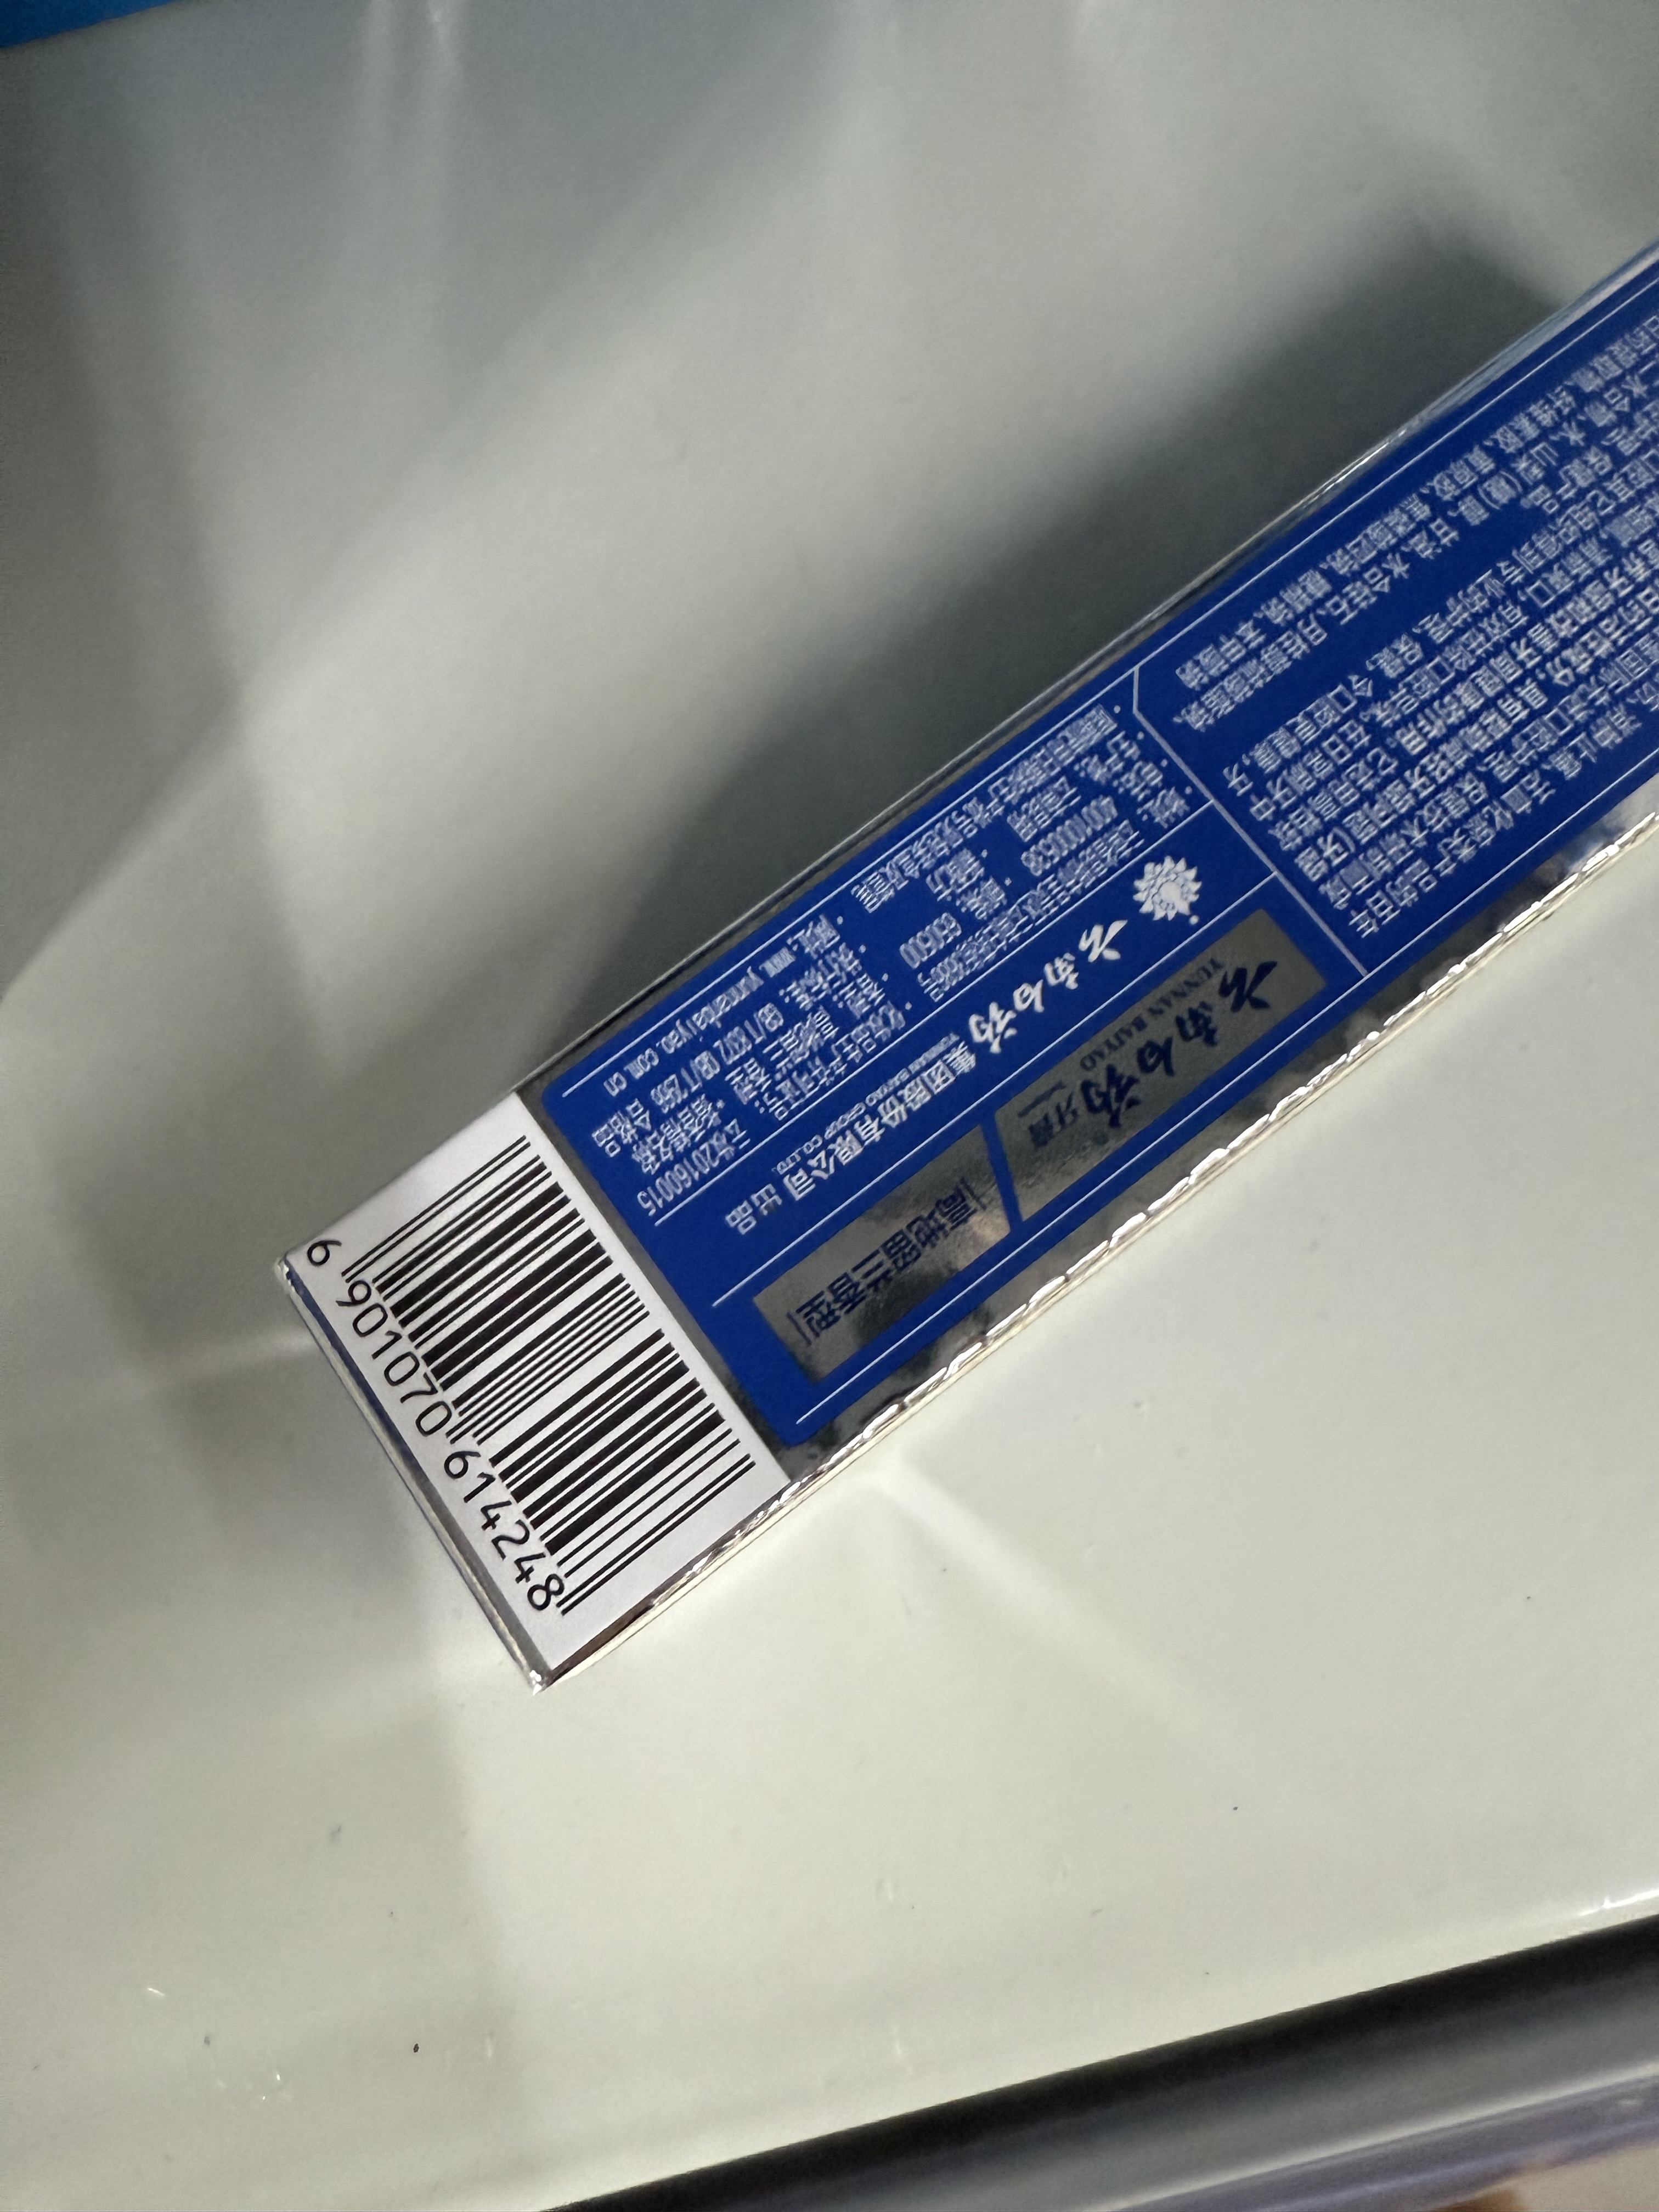bar: (331, 1130, 770, 1623)
